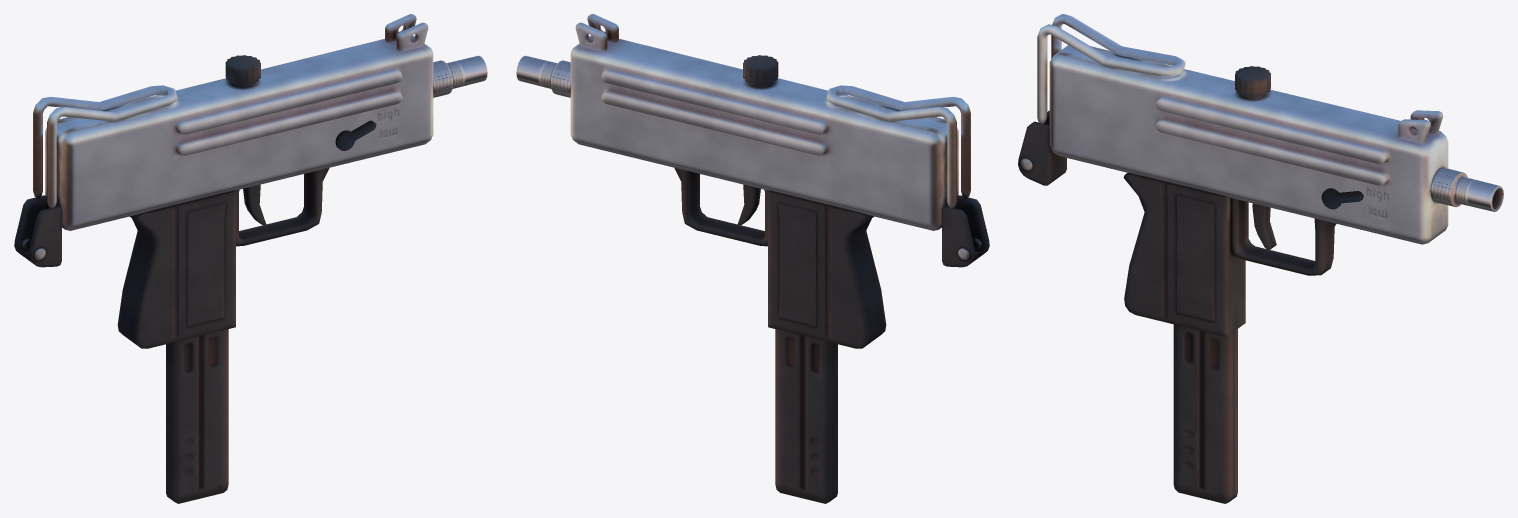
The model's file is mac10.fbx.
3 renders of one model, left to right at view 1: azimuth 30°, elevation 25°; view 2: azimuth 150°, elevation 25°; view 3: azimuth 330°, elevation 25°, orthographic. The views are drawn at different scales.
Parts seen in each view (by area): view 1: mac10, mac10magazine_low, mac10derriere_low, mac10rond_low, mac10bt_low, mac10trigger_low; view 2: mac10, mac10magazine_low, mac10derriere_low, mac10rond_low, mac10trigger_low; view 3: mac10, mac10magazine_low, mac10derriere_low, mac10rond_low, mac10trigger_low, mac10bt_low.
Boxes of the visible parts, x1,y1,x2,y2 form: mac10: (45, 14, 487, 348); mac10magazine_low: (166, 329, 228, 503); mac10derriere_low: (14, 85, 177, 267); mac10rond_low: (225, 55, 260, 87); mac10bt_low: (335, 120, 376, 150); mac10trigger_low: (243, 184, 266, 225); mac10: (516, 14, 958, 348); mac10magazine_low: (775, 329, 837, 503); mac10derriere_low: (826, 85, 989, 267); mac10rond_low: (743, 55, 778, 87); mac10trigger_low: (737, 184, 760, 225); mac10: (1049, 45, 1503, 336); mac10magazine_low: (1173, 324, 1237, 503); mac10derriere_low: (1018, 14, 1185, 185); mac10rond_low: (1235, 66, 1270, 99); mac10trigger_low: (1252, 203, 1276, 249); mac10bt_low: (1321, 188, 1363, 209).
Bounding box in the file's own units: 0.2346 × 0.2092 × 0.0286.
